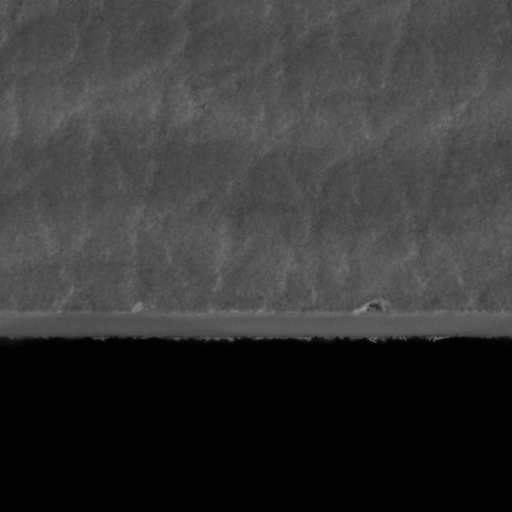bengque: (354, 299, 397, 316)
